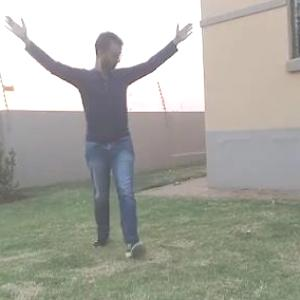takeoff: (1, 6, 214, 268)
